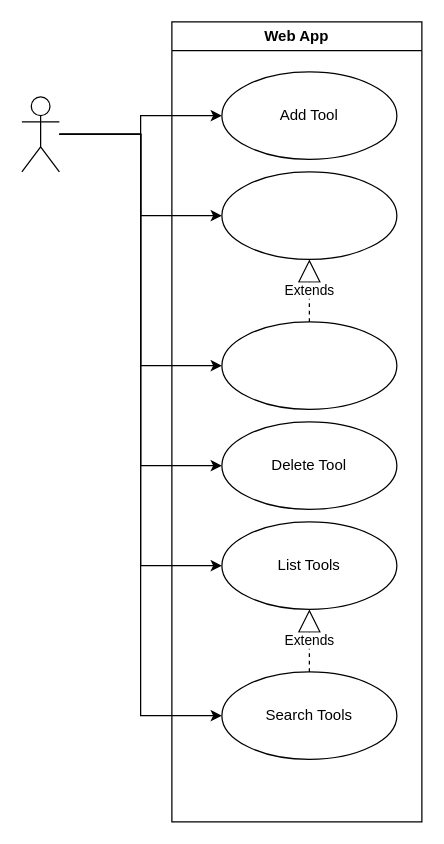
The diagram is 444 pixels wide and 844 high, and some of its shapes have lost their labels. The shapes that lost their labels are listed below. From the top down, each one's centre as x and y in pixels, then its label:
At [40,134]: "User".
At [309,215]: "Edit Tool".
At [309,365]: "Adjust Tool Quantity".
